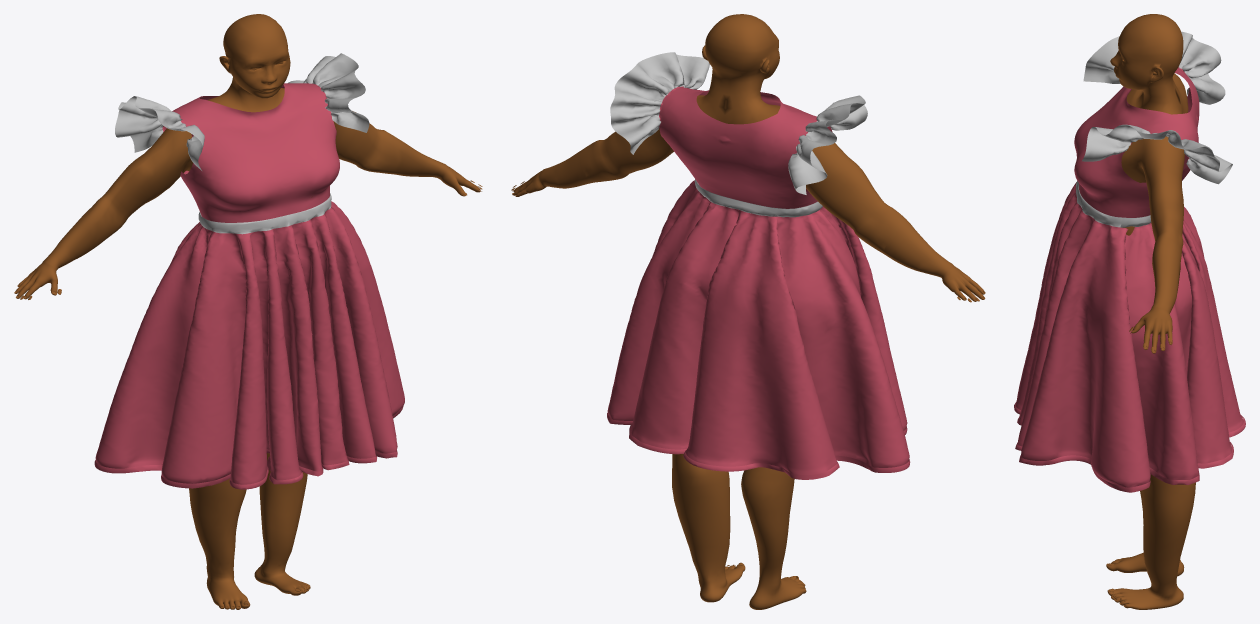
Rendered from dress4.glb.
3 views of the same model, side by side, from view 1: azimuth 30°, elevation 25°; view 2: azimuth 150°, elevation 25°; view 3: azimuth 270°, elevation 25° (orthographic).
Parts seen in each view (by area): view 1: PinkDrees#14 (OBJ), Body; view 2: PinkDrees#14 (OBJ), Body; view 3: PinkDrees#14 (OBJ), Body.
Boxes of the visible parts, x1=… form: PinkDrees#14 (OBJ): x1=94, y1=53, x2=404, y2=489; Body: x1=14, y1=14, x2=481, y2=609; PinkDrees#14 (OBJ): x1=607, y1=52, x2=910, y2=479; Body: x1=512, y1=14, x2=985, y2=609; PinkDrees#14 (OBJ): x1=1014, y1=31, x2=1245, y2=492; Body: x1=1106, y1=14, x2=1195, y2=609.
Bounding box in the file's own units: 1.59 × 1.88 × 0.6849.
